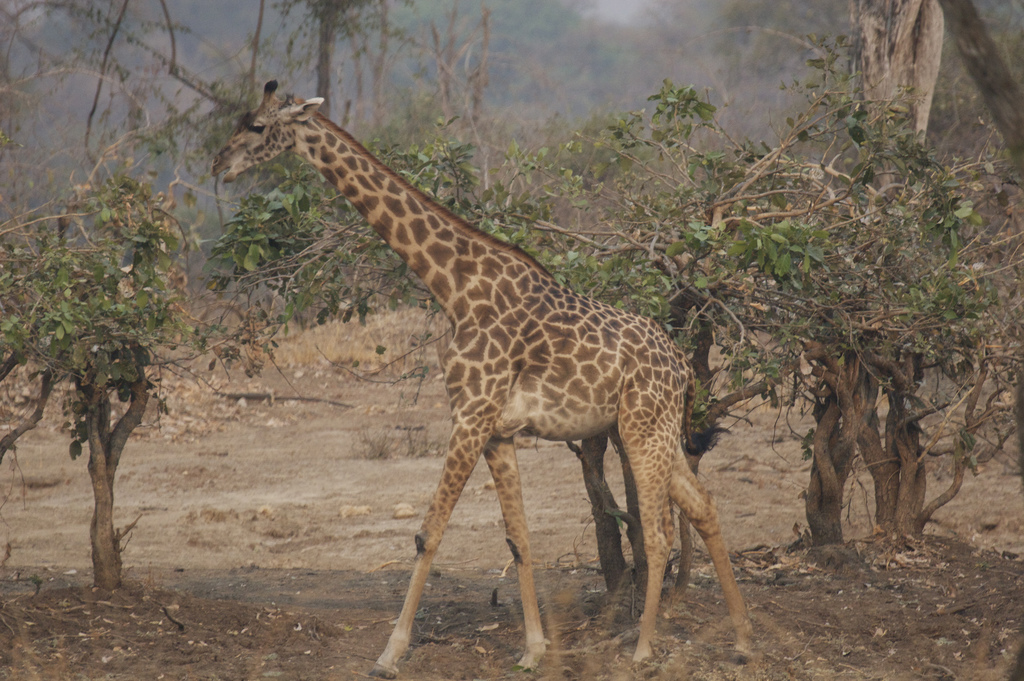giraffe: (161, 92, 806, 657)
